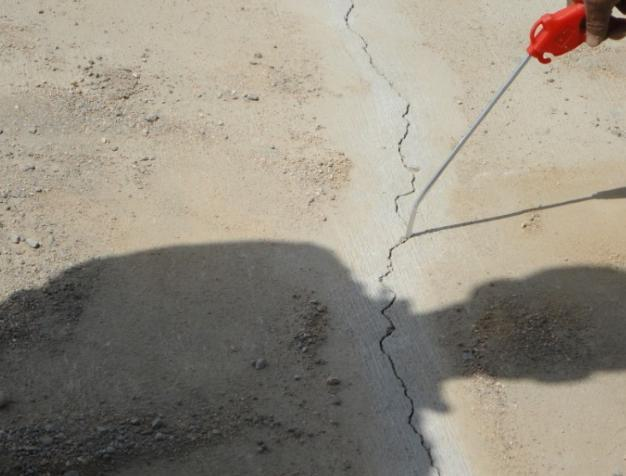Crack: (344, 1, 442, 476)
